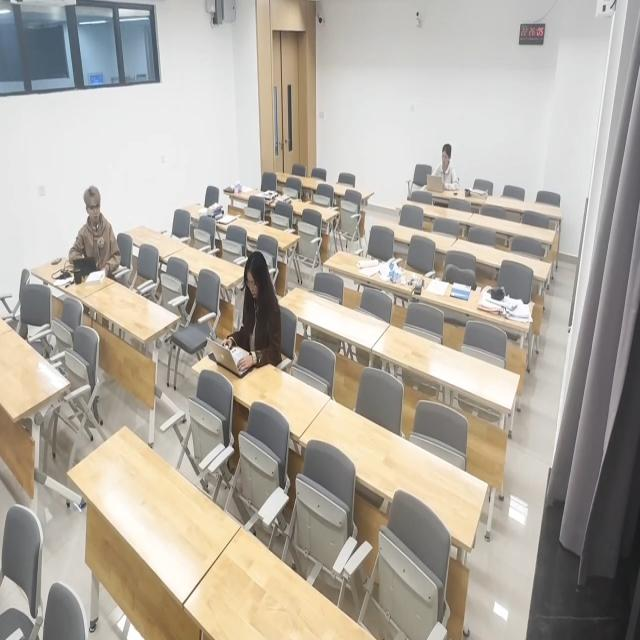Non-empty: (191, 337, 329, 435), (417, 272, 537, 333), (324, 248, 428, 297), (32, 253, 115, 299), (223, 178, 299, 212), (413, 175, 491, 208), (179, 201, 245, 229)
empty: (66, 422, 242, 598), (298, 393, 486, 551), (184, 530, 374, 640), (375, 320, 522, 410), (279, 285, 392, 351), (0, 327, 70, 423), (86, 283, 180, 343), (451, 240, 553, 287), (164, 244, 248, 293), (468, 210, 556, 247), (371, 218, 457, 251), (481, 195, 565, 222), (126, 224, 184, 258), (398, 196, 476, 221), (272, 172, 331, 189)
